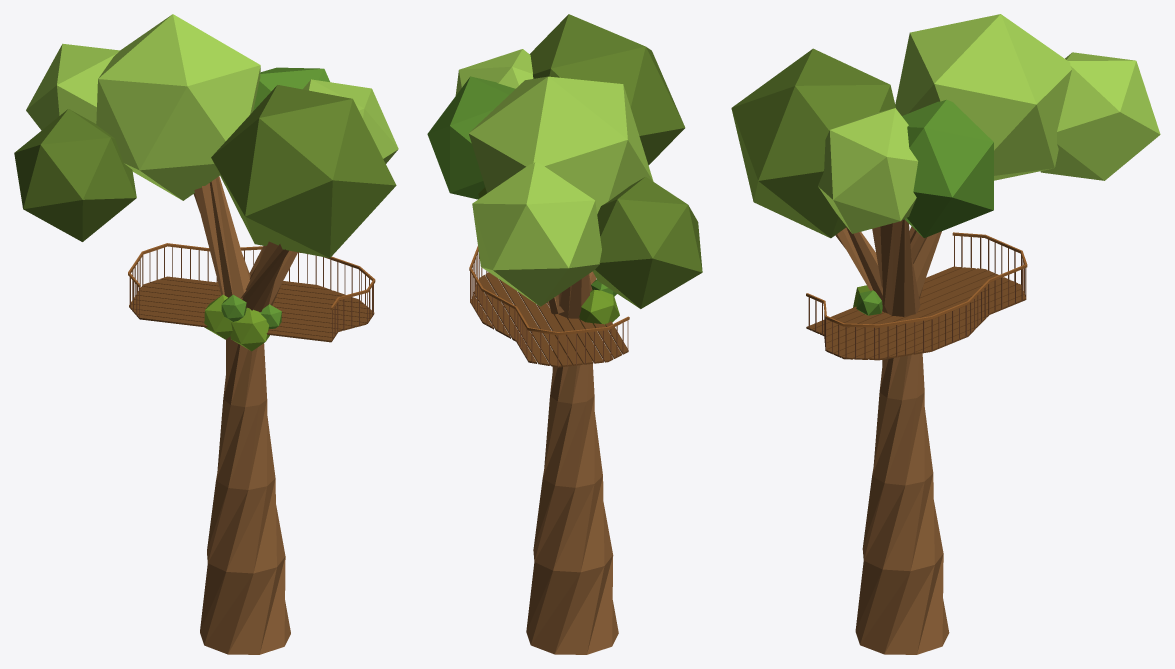
File: Baumhaus Neu Teil 2.fbx
The picture shows the model from 3 angles, left to right: view 1: azimuth 30°, elevation 25°; view 2: azimuth 150°, elevation 25°; view 3: azimuth 270°, elevation 25°; orthographic projection. The views are drawn at different scales.
Parts seen in each view (by area): view 1: Blätter, Stamm_1, Plattform_1; view 2: Blätter, Stamm_1, Plattform_1; view 3: Blätter, Stamm_1, Plattform_1.
Boxes of the visible parts, x1,y1,x2,y2 form: Blätter: [14, 14, 398, 351]; Stamm_1: [193, 176, 297, 654]; Plattform_1: [128, 243, 375, 342]; Blätter: [427, 14, 702, 327]; Stamm_1: [526, 271, 618, 654]; Plattform_1: [469, 246, 629, 367]; Blätter: [731, 14, 1160, 315]; Stamm_1: [835, 219, 949, 654]; Plattform_1: [806, 232, 1027, 360].
Size of the model in its own units: 890 by 1703 by 1086.
